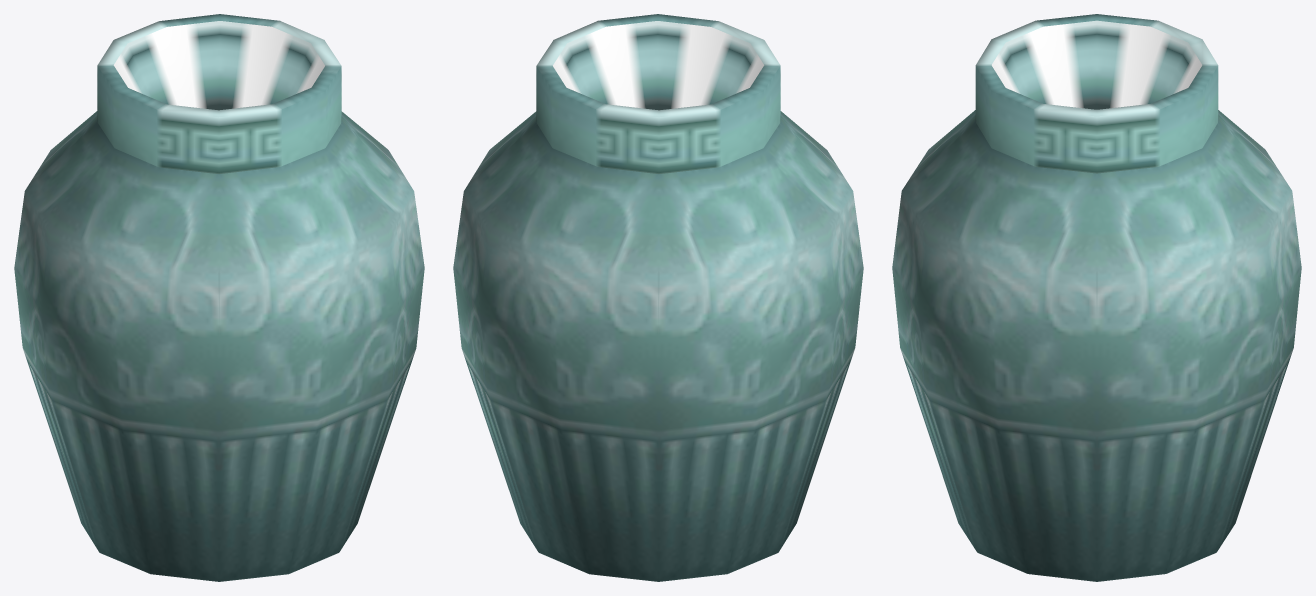
The model's file is int_jar_jar_seiji.dae.
The picture shows the model from 3 angles, left to right: view 1: azimuth 30°, elevation 25°; view 2: azimuth 150°, elevation 25°; view 3: azimuth 270°, elevation 25°; orthographic projection.
Parts seen in each view (by area): view 1: int_jar_jar_seiji; view 2: int_jar_jar_seiji; view 3: int_jar_jar_seiji.
Part boxes in pixels (x1,y1,x2,y2): int_jar_jar_seiji: (14,14,424,581); int_jar_jar_seiji: (453,14,863,581); int_jar_jar_seiji: (892,14,1301,581).
Bounding box in the file's own units: 26 × 32.1 × 26.
1 material, 1 textured.
